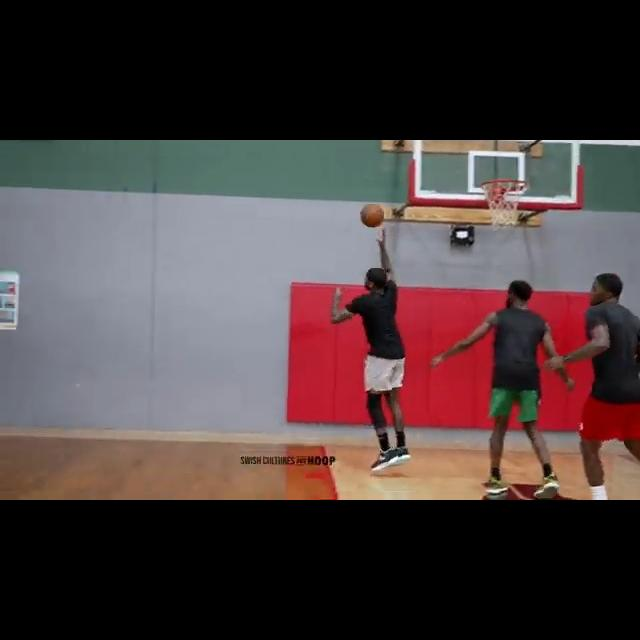basketball: (360, 202, 385, 229)
hoop: (483, 177, 529, 232)
person: (431, 264, 565, 500), (546, 261, 640, 500), (328, 266, 419, 475)
